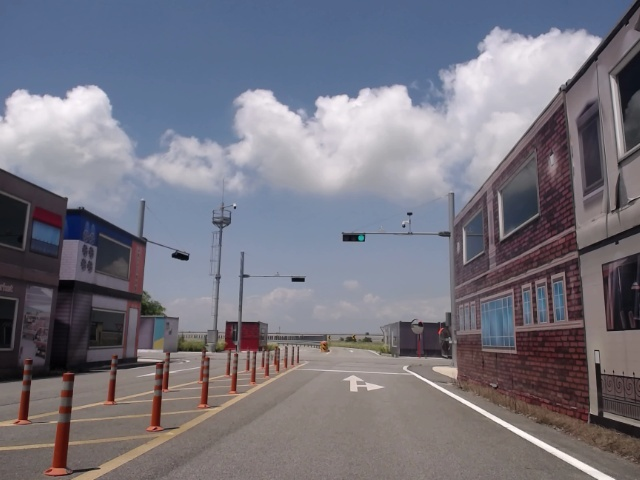green_3: (343, 233, 365, 242)
